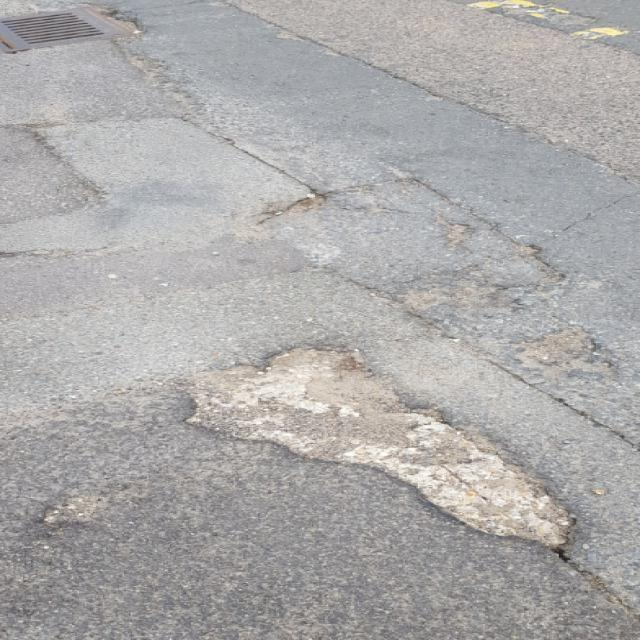Pothole: (181, 333, 596, 548)
